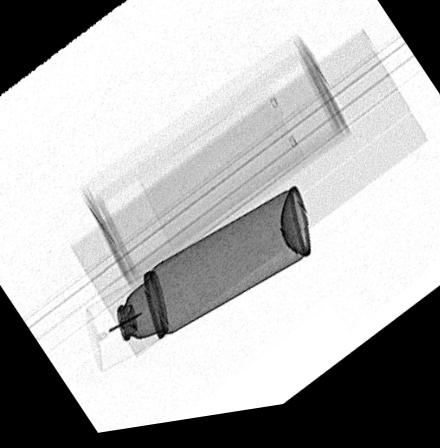Sprayer: (85, 195, 311, 376)
